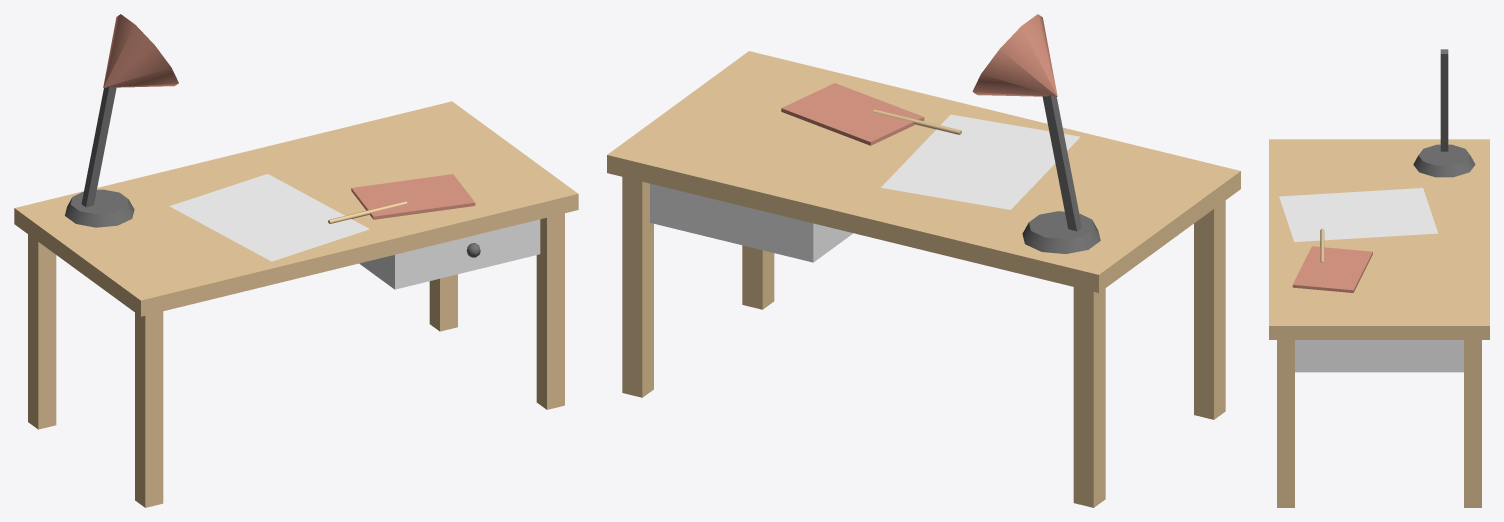
Rendered from desk.glb.
3 renders of one model, left to right at view 1: azimuth 30°, elevation 25°; view 2: azimuth 150°, elevation 25°; view 3: azimuth 270°, elevation 25°, orthographic. The views are drawn at different scales.
Visible parts, largest first — view 1: top, letter, drawer, leg_fl, leg_fr, leg_bl, envelope, lamp_shade, lamp_base, lamp_arm, leg_br; view 2: top, letter, drawer, leg_bl, leg_br, leg_fl, envelope, lamp_shade, lamp_base, lamp_arm, leg_fr; view 3: top, letter, drawer, leg_fr, leg_br, envelope, lamp_base, lamp_arm.
Part boxes in pixels (bbox=[...]): top: bbox=[14, 101, 578, 316]; letter: bbox=[169, 174, 369, 261]; drawer: bbox=[359, 219, 540, 289]; leg_fl: bbox=[135, 311, 163, 507]; leg_fr: bbox=[536, 213, 564, 409]; leg_bl: bbox=[28, 234, 56, 429]; envelope: bbox=[351, 174, 475, 219]; lamp_shade: bbox=[103, 14, 178, 87]; lamp_base: bbox=[65, 189, 134, 227]; lamp_arm: bbox=[81, 86, 116, 207]; leg_br: bbox=[429, 274, 457, 331]; top: bbox=[607, 51, 1240, 292]; letter: bbox=[881, 114, 1080, 209]; drawer: bbox=[650, 183, 853, 262]; leg_bl: bbox=[1073, 287, 1105, 507]; leg_br: bbox=[622, 177, 653, 397]; leg_fl: bbox=[1194, 200, 1225, 419]; envelope: bbox=[781, 83, 924, 145]; lamp_shade: bbox=[972, 14, 1057, 96]; lamp_base: bbox=[1022, 211, 1100, 253]; lamp_arm: bbox=[1042, 95, 1081, 231]; leg_fr: bbox=[742, 245, 774, 309]; top: bbox=[1269, 139, 1489, 339]; letter: bbox=[1279, 188, 1437, 241]; drawer: bbox=[1295, 340, 1463, 372]; leg_fr: bbox=[1277, 340, 1294, 507]; leg_br: bbox=[1464, 340, 1481, 507]; envelope: bbox=[1292, 246, 1372, 292]; lamp_base: bbox=[1413, 144, 1475, 177]; lamp_arm: bbox=[1440, 49, 1448, 151].
Size of the model in its own units: 1.7 by 1.48 by 0.8501.
